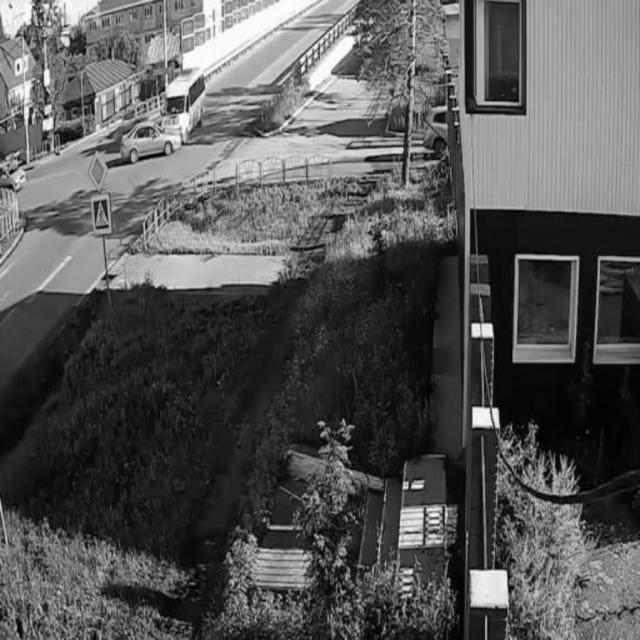accident: (113, 73, 211, 149)
